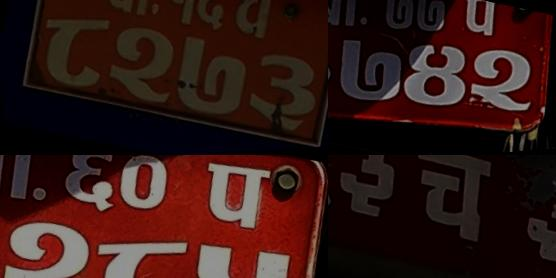0: (107, 155, 180, 230), (328, 0, 365, 36)
1: (460, 43, 545, 125), (153, 0, 206, 33)
2: (94, 17, 188, 116), (0, 208, 107, 278)
3: (232, 45, 328, 146), (328, 155, 417, 242), (495, 163, 556, 278)
5: (394, 37, 477, 121), (174, 233, 301, 278)
6: (43, 155, 128, 225), (186, 0, 238, 40)
7: (161, 30, 259, 132), (328, 33, 411, 115), (407, 0, 454, 41), (375, 0, 420, 38)
8: (24, 1, 120, 102), (74, 220, 199, 278), (454, 0, 503, 45)
ba: (0, 155, 52, 218), (93, 0, 164, 27)
cha: (388, 155, 509, 264), (218, 0, 285, 51)
pa: (184, 155, 281, 249)
